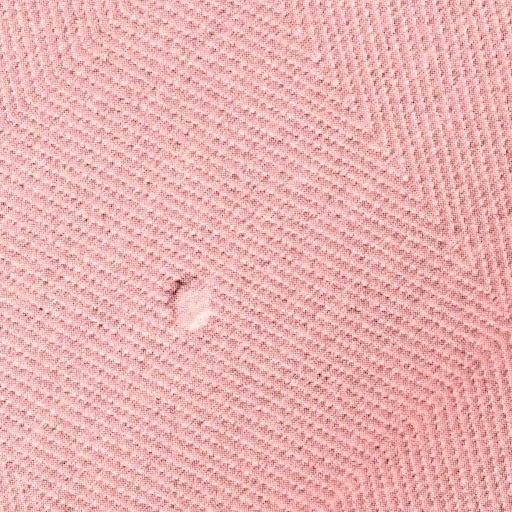knot: (160, 270, 226, 343)
